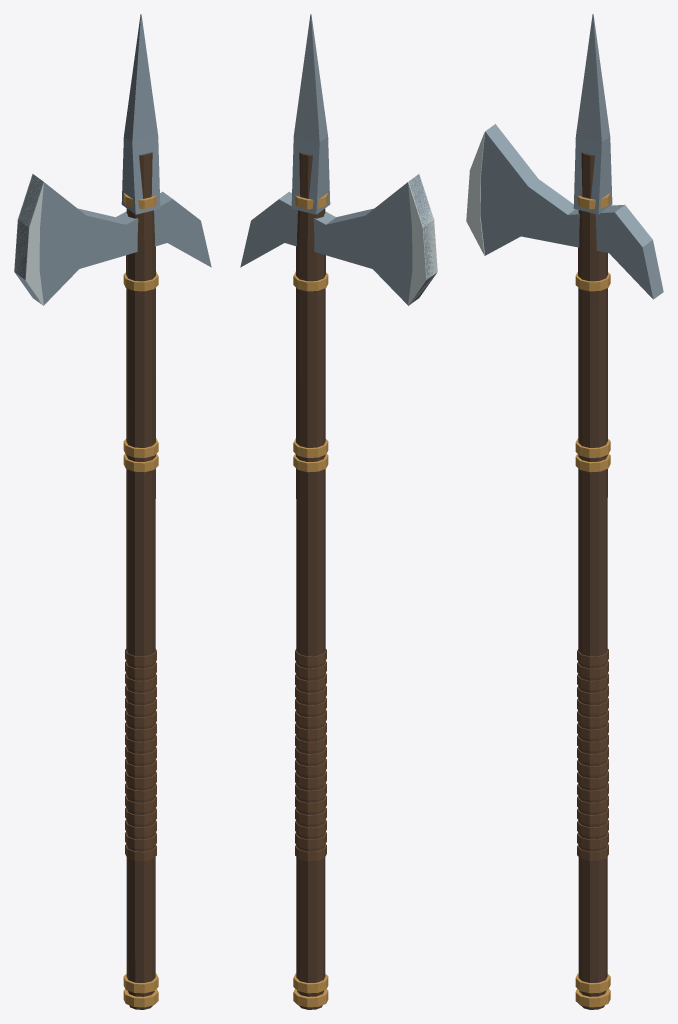
File: poleaxe.glb
3 renders of one model, left to right at view 1: azimuth 30°, elevation 25°; view 2: azimuth 150°, elevation 25°; view 3: azimuth 330°, elevation 25°, orthographic.
Visible parts, largest first — view 1: Poleaxe_mesh; view 2: Poleaxe_mesh; view 3: Poleaxe_mesh.
Boxes of the visible parts, box(x1,y1,x2,y2) form: Poleaxe_mesh: box(14, 14, 211, 1009); Poleaxe_mesh: box(240, 14, 437, 1009); Poleaxe_mesh: box(466, 14, 663, 1009).
Bounding box in the file's own units: 0.416 × 2.11 × 0.0647.
